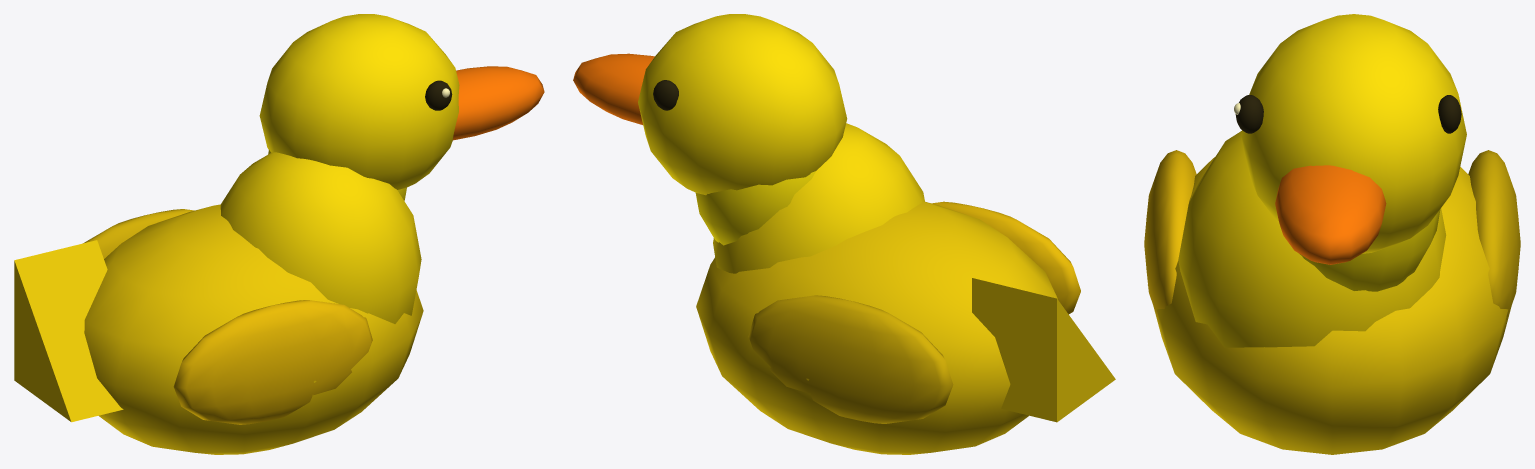
The model's file is CMU3DMaterialLeisureRubberDuckCloud.glb.
3 renders of one model, left to right at view 1: azimuth 30°, elevation 25°; view 2: azimuth 150°, elevation 25°; view 3: azimuth 270°, elevation 25°, orthographic. The views are drawn at different scales.
Parts seen in each view (by area): view 1: duck round floating body, duck head, raised duck chest, near folded wing, raised tail, orange projecting beak, far folded wing, near black eye; view 2: duck round floating body, duck head, far folded wing, raised duck chest, raised tail, duck neck, orange projecting beak, near folded wing, far black eye; view 3: duck round floating body, duck head, raised duck chest, orange projecting beak, far folded wing, near folded wing, duck neck, near black eye, far black eye.
Part boxes in pixels (<box>): duck round floating body: <box>84,204,423,454</box>; duck head: <box>259,14,459,189</box>; raised duck chest: <box>220,152,421,323</box>; near folded wing: <box>173,300,372,424</box>; raised tail: <box>14,240,123,422</box>; orange projecting beak: <box>453,66,544,140</box>; far folded wing: <box>83,209,194,258</box>; near black eye: <box>425,80,452,110</box>; duck round floating body: <box>696,201,1057,454</box>; duck head: <box>638,14,847,195</box>; far folded wing: <box>748,295,953,423</box>; raised duck chest: <box>713,123,924,273</box>; raised tail: <box>972,278,1115,422</box>; duck neck: <box>695,171,815,245</box>; orange projecting beak: <box>573,53,654,124</box>; near folded wing: <box>932,201,1080,314</box>; far black eye: <box>653,80,678,110</box>; duck round floating body: <box>1148,157,1516,454</box>; duck head: <box>1241,14,1466,253</box>; raised duck chest: <box>1178,131,1446,347</box>; orange projecting beak: <box>1275,165,1386,264</box>; far folded wing: <box>1468,150,1520,319</box>; near folded wing: <box>1144,150,1196,319</box>; duck neck: <box>1300,209,1440,291</box>; near black eye: <box>1235,95,1263,133</box>; far black eye: <box>1438,95,1461,133</box>.
Bounding box in the file's own units: 0.403 × 0.292 × 0.21.
